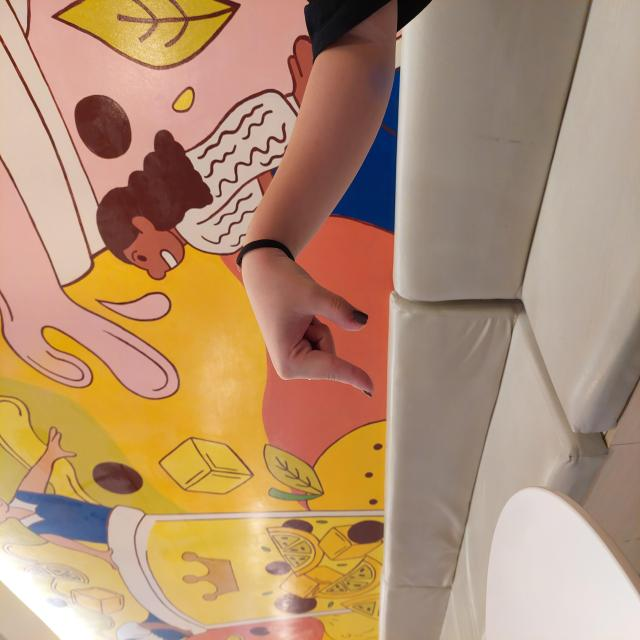Q: (240, 239, 402, 376)
